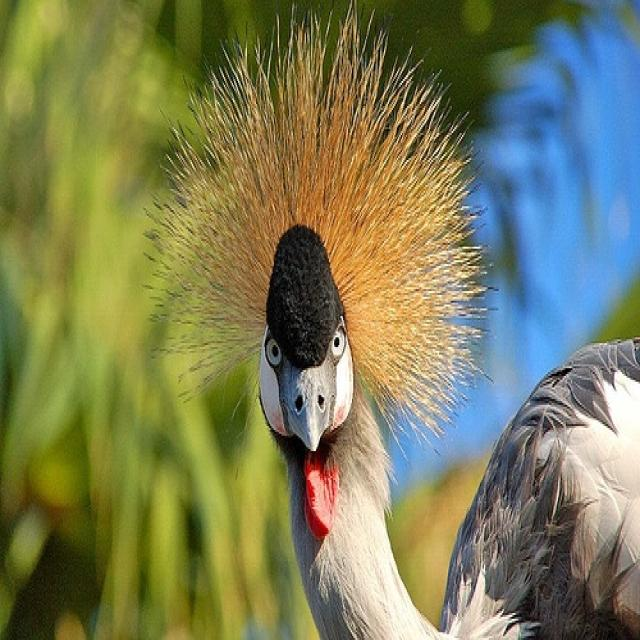bird: (143, 4, 639, 638)
